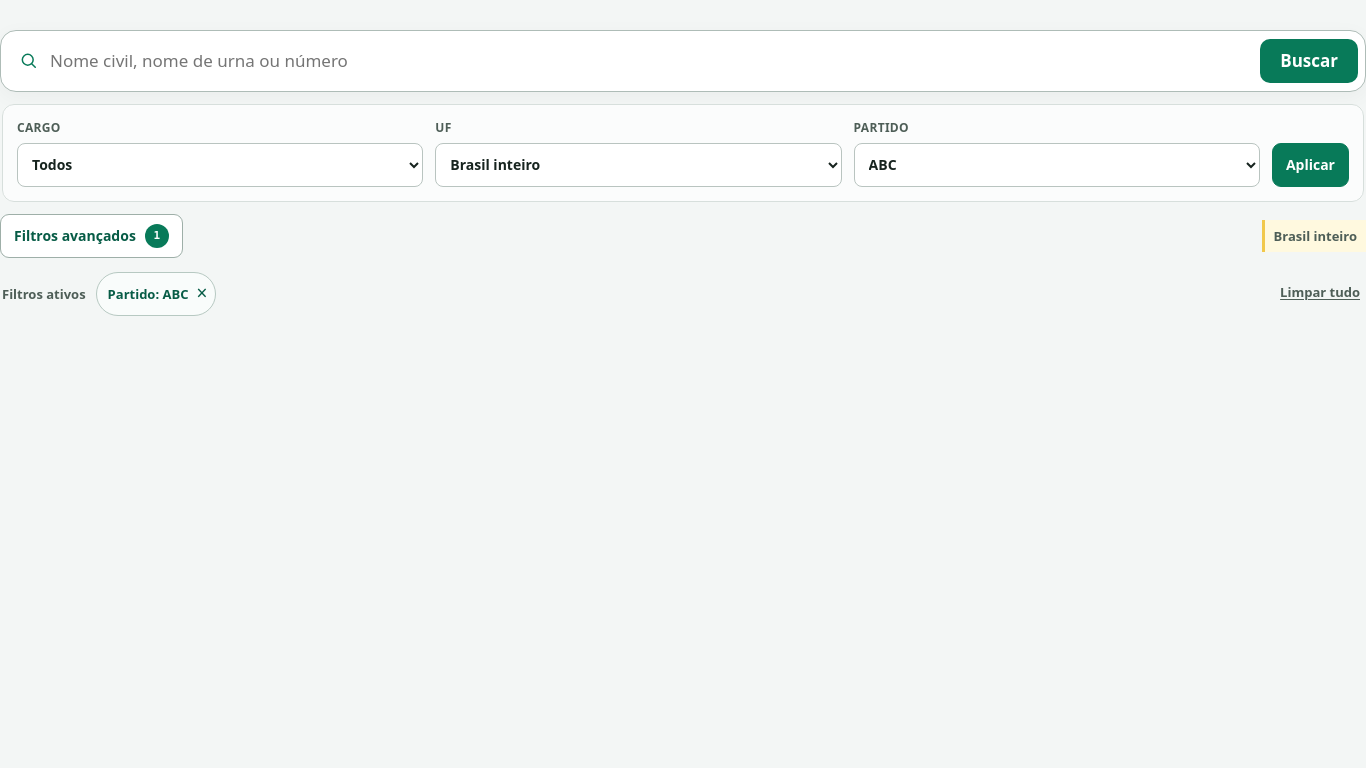
candidate catalog › keeps an anonymous login return safe while the edited draft is invalid
The image size is (1366, 768).
Click the button "Filtros avançados 1".
click(91, 236)  # box [0,214,183,258]
(page scrolled)
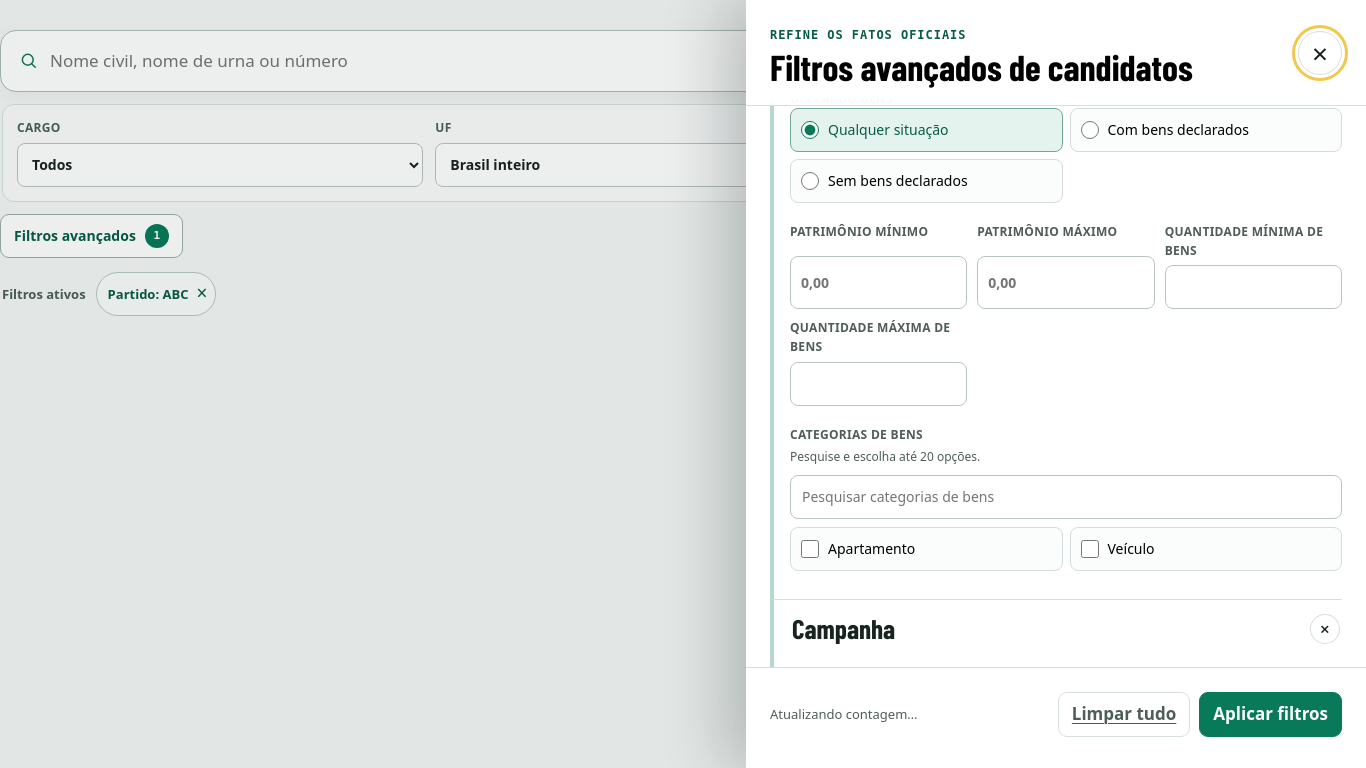
Type "1000001" into the number field labelled "Quantidade máxima de bens".
click(879, 384); type("1000001")  # box [790,362,967,406]
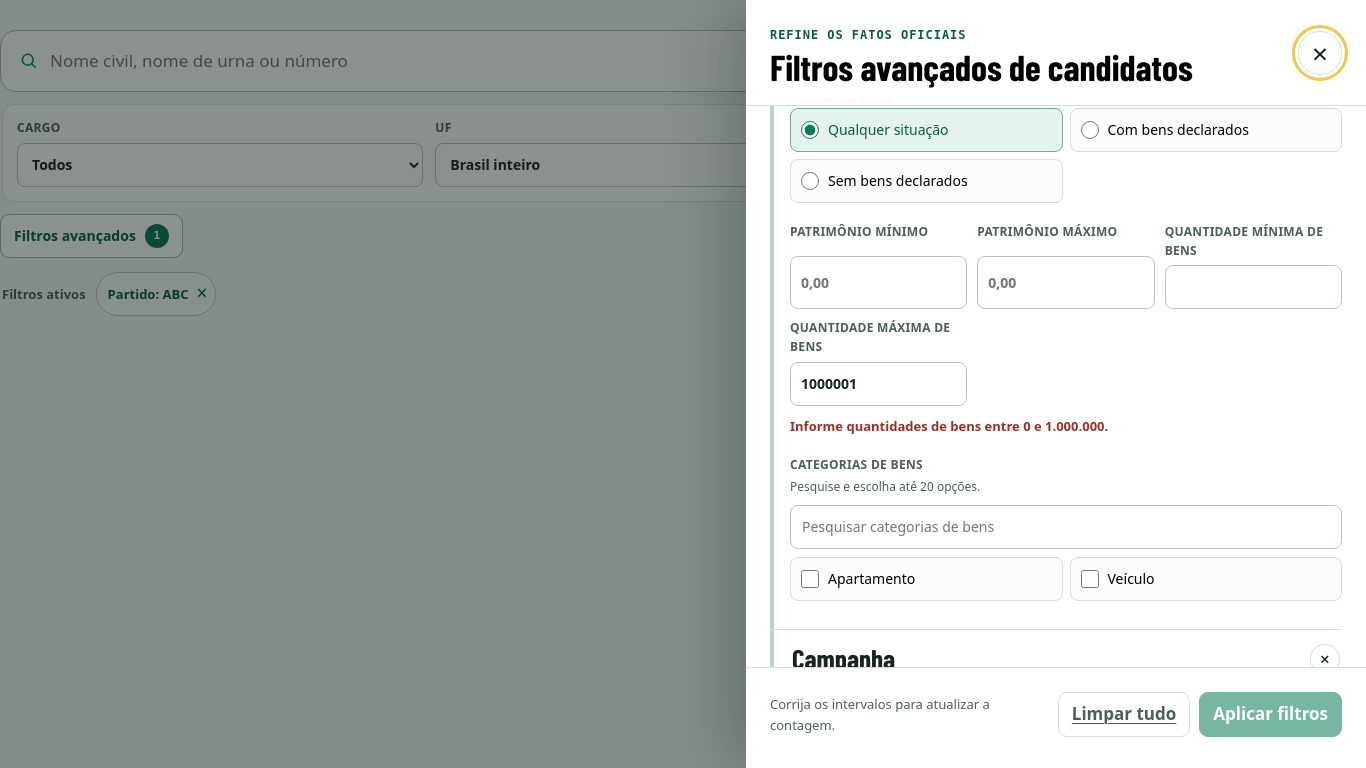
Now the message "Informe quantidades de bens entre 0 e 1.000.000." is shown, box [790,416,1108,434]
Now the button "Aplicar filtros" is disabled, box [1199,692,1342,737]
